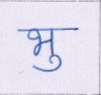u_matra: (34, 55, 64, 73)
